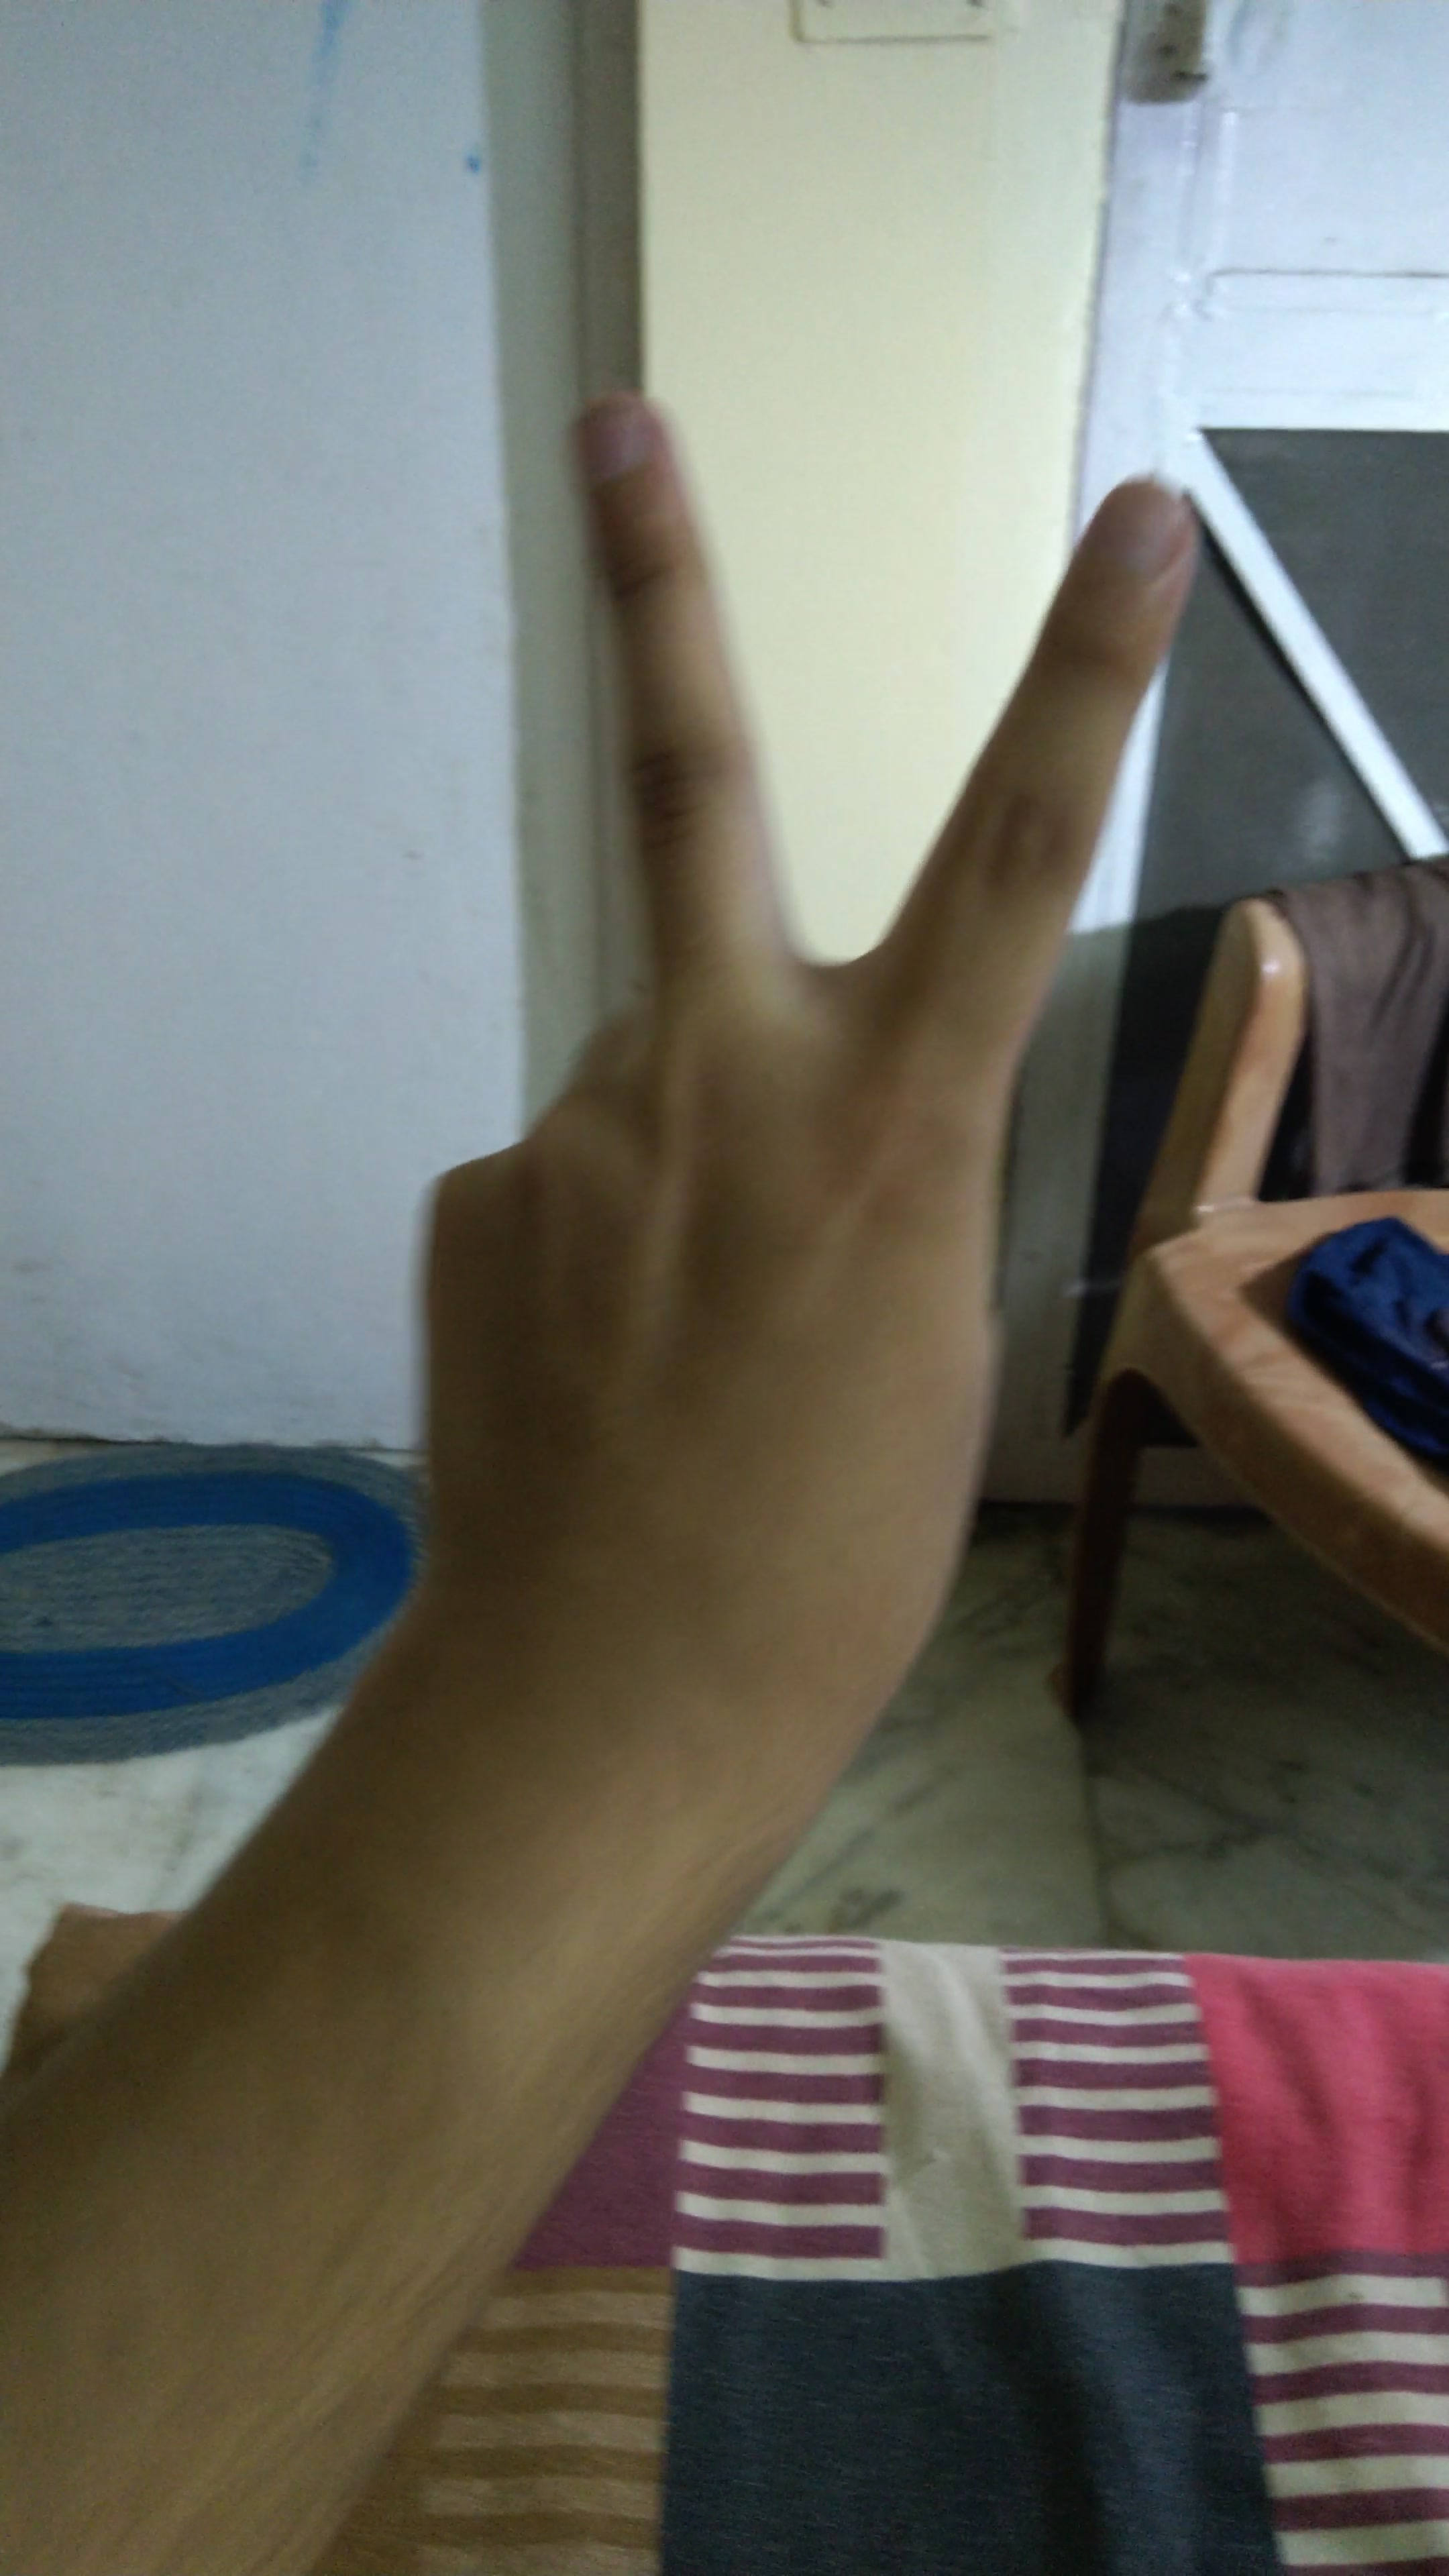hand: (315, 343, 1194, 1904)
